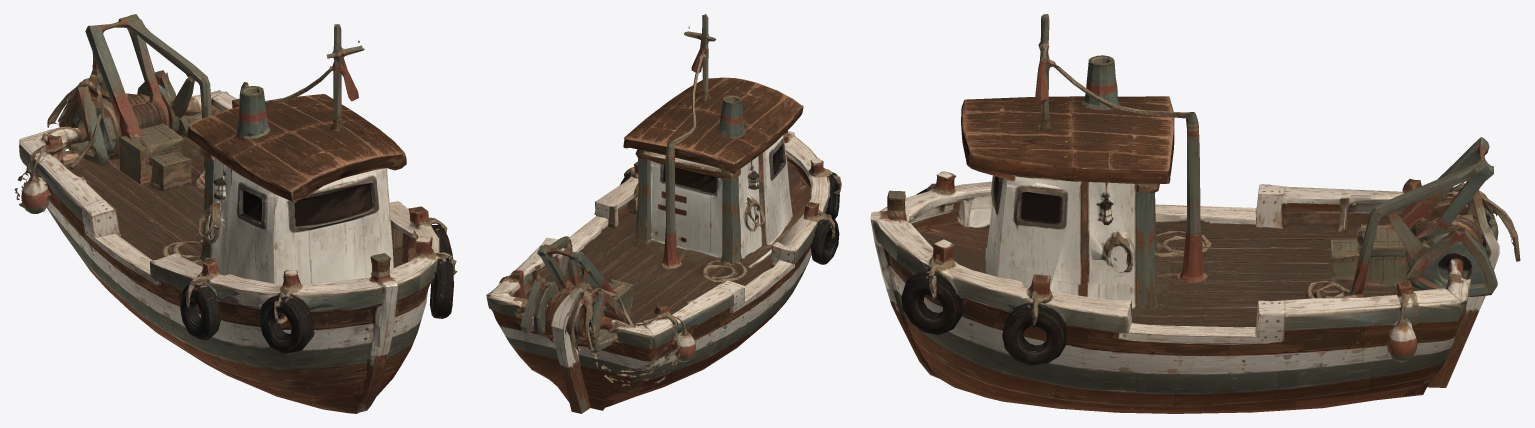
The model's file is fishing-boat.glb.
The picture shows the model from 3 angles, left to right: view 1: azimuth 30°, elevation 25°; view 2: azimuth 150°, elevation 25°; view 3: azimuth 270°, elevation 25°; orthographic projection. The views are drawn at different scales.
Parts seen in each view (by area): view 1: Mesh0; view 2: Mesh0; view 3: Mesh0.
Part boxes in pixels (box(x1,y1,x2,y2)): Mesh0: box(14, 14, 457, 413); Mesh0: box(486, 14, 841, 413); Mesh0: box(870, 14, 1520, 413).
Bounding box in the file's own units: 5.57 × 7.15 × 11.
Materials: 1 (1 with a texture image).
